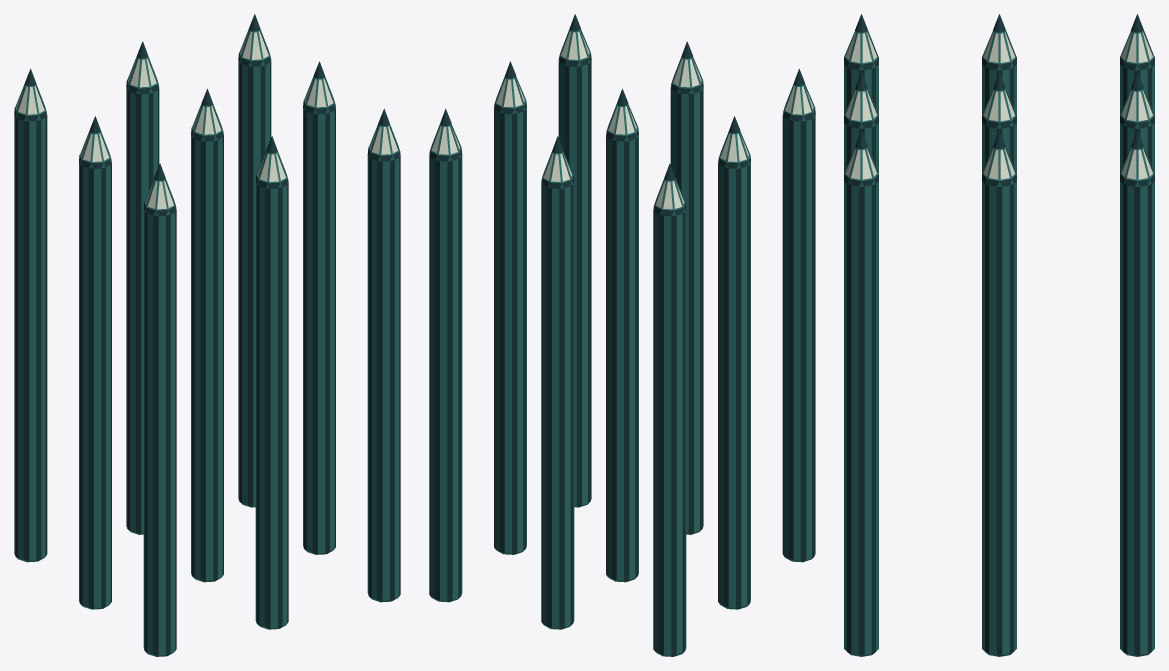
The model's file is trap 3x3.glb.
The picture shows the model from 3 angles, left to right: view 1: azimuth 30°, elevation 25°; view 2: azimuth 150°, elevation 25°; view 3: azimuth 270°, elevation 25°; orthographic projection. The views are drawn at different scales.
Parts seen in each view (by area): view 1: Окружность.007, Окружность.006, Окружность, Окружность.008, Окружность.005, Окружность.003, Окружность.004, Окружность.002, Окружность.001; view 2: Окружность.001, Окружность.006, Окружность, Окружность.002, Окружность.005, Окружность.003, Окружность.004, Окружность.008, Окружность.007; view 3: Окружность.005, Окружность.002, Окружность.008, Окружность.001, Окружность.004, Окружность, Окружность.003, Окружность.006, Окружность.007.
Boxes of the visible parts, x1,y1,x2,y2 form: Окружность.007: (255,136,288,629); Окружность.006: (143,163,176,656); Окружность: (14,68,47,562); Окружность.008: (367,108,400,602); Окружность.005: (303,61,335,554); Окружность.003: (79,116,111,609); Окружность.004: (191,89,223,582); Окружность.002: (238,14,271,507); Окружность.001: (126,41,159,534); Окружность.001: (541,136,574,629); Окружность.006: (782,68,815,562); Окружность: (653,163,686,656); Окружность.002: (429,108,462,602); Окружность.005: (494,61,526,554); Окружность.003: (718,116,750,609); Окружность.004: (606,89,638,582); Окружность.008: (558,14,591,507); Окружность.007: (670,41,703,534); Окружность.005: (982,131,1016,656); Окружность.002: (1120,130,1154,656); Окружность.008: (844,130,878,656); Окружность.001: (1120,72,1154,173); Окружность.004: (982,72,1016,173); Окружность: (1120,14,1154,114); Окружность.003: (982,14,1016,114); Окружность.006: (844,14,878,114); Окружность.007: (844,72,878,172).
Size of the model in its own units: 2.25 by 4.16 by 2.25.
1 material, 1 textured.
